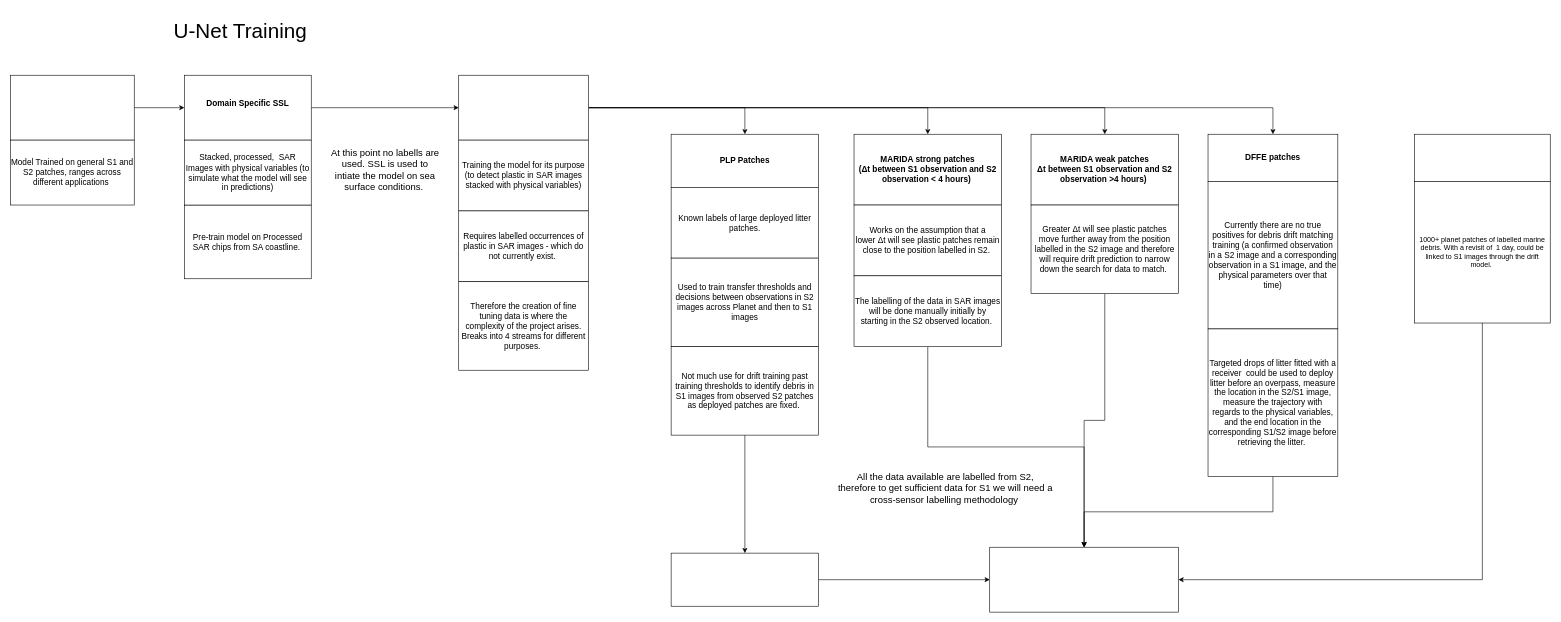
Image size: 1561x622. Some labels were removed from this diagram. Here are the shapes that lost their labels. From the top down, the centre of each, then its label:
(x=72, y=107): Base SSL4EO Trained Encoder for U-Net
(x=523, y=107): Fine-Tuning
(x=1482, y=157): NOAA Planet Patches
(x=745, y=579): Map S2 values to S1 values to define thresholds and rules for drift model
(x=1084, y=579): Drift Model
